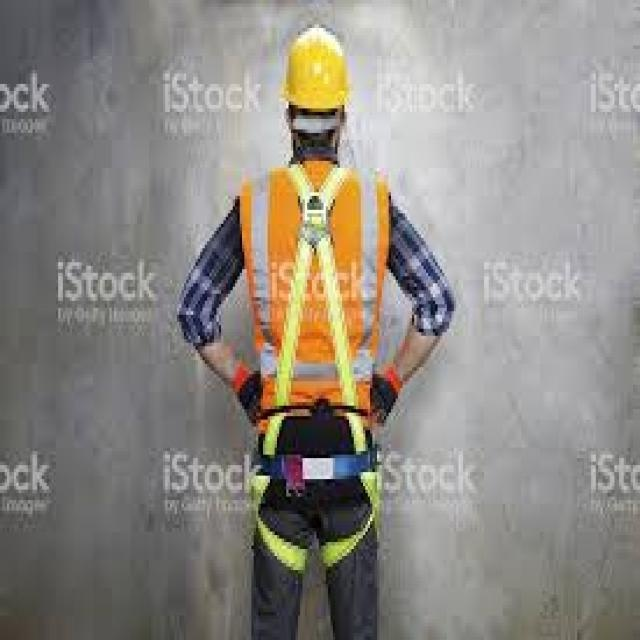Arnes_seguridad: (248, 154, 385, 576)
